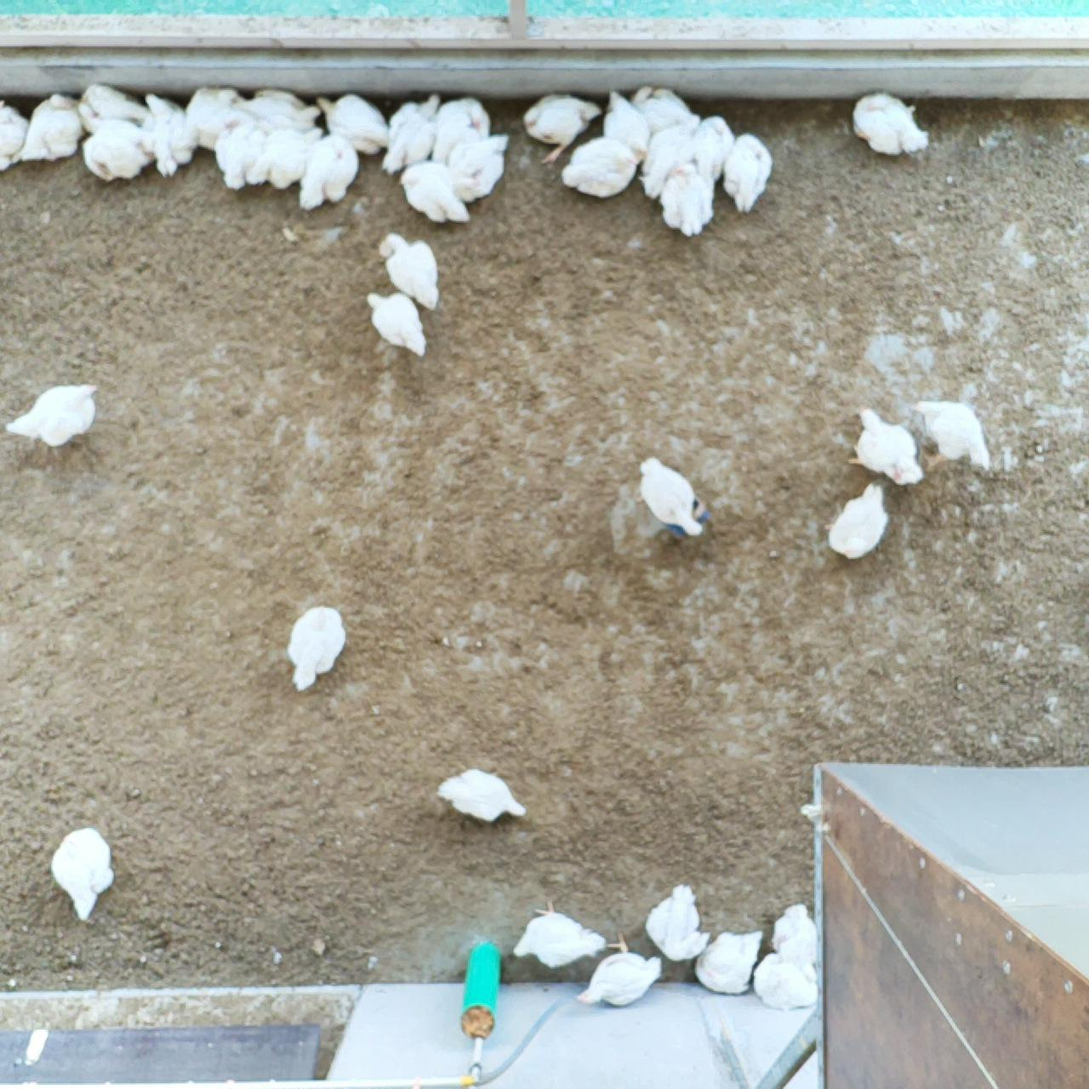chicken: (571, 926, 666, 1013), (508, 896, 609, 970), (848, 402, 928, 490), (5, 381, 104, 452), (909, 393, 994, 473), (631, 452, 707, 541), (48, 825, 117, 922), (820, 479, 894, 565), (847, 87, 934, 160), (558, 134, 650, 202), (432, 761, 529, 825), (282, 602, 349, 693), (522, 94, 605, 166), (296, 126, 362, 215), (13, 90, 89, 167), (375, 229, 446, 311), (645, 881, 715, 964), (380, 91, 445, 178), (396, 161, 475, 231), (140, 89, 200, 181), (637, 121, 699, 206), (693, 926, 764, 1000), (80, 113, 154, 184), (245, 125, 325, 188), (361, 286, 428, 360), (315, 89, 391, 153), (429, 93, 494, 166), (720, 130, 775, 216), (448, 129, 513, 201), (658, 166, 718, 239), (233, 85, 323, 131), (185, 84, 244, 153), (599, 86, 653, 160), (764, 902, 823, 968), (215, 111, 265, 187), (631, 84, 703, 130), (81, 82, 151, 127), (692, 114, 738, 182), (0, 98, 31, 175)
